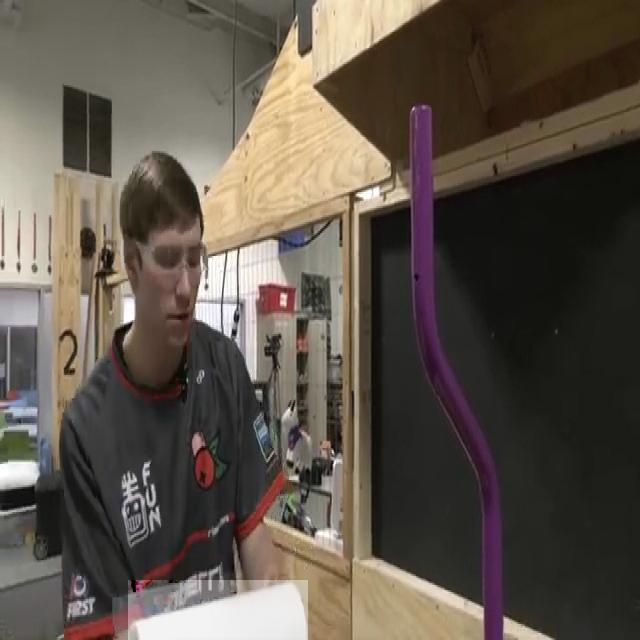Coral: (128, 580, 308, 640)
